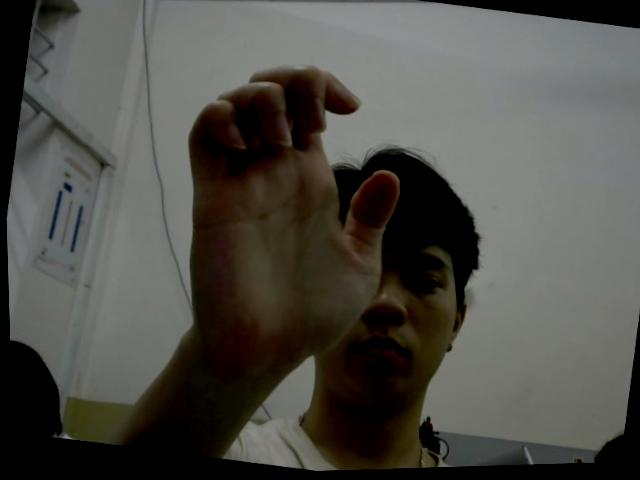E: (148, 44, 418, 383)
